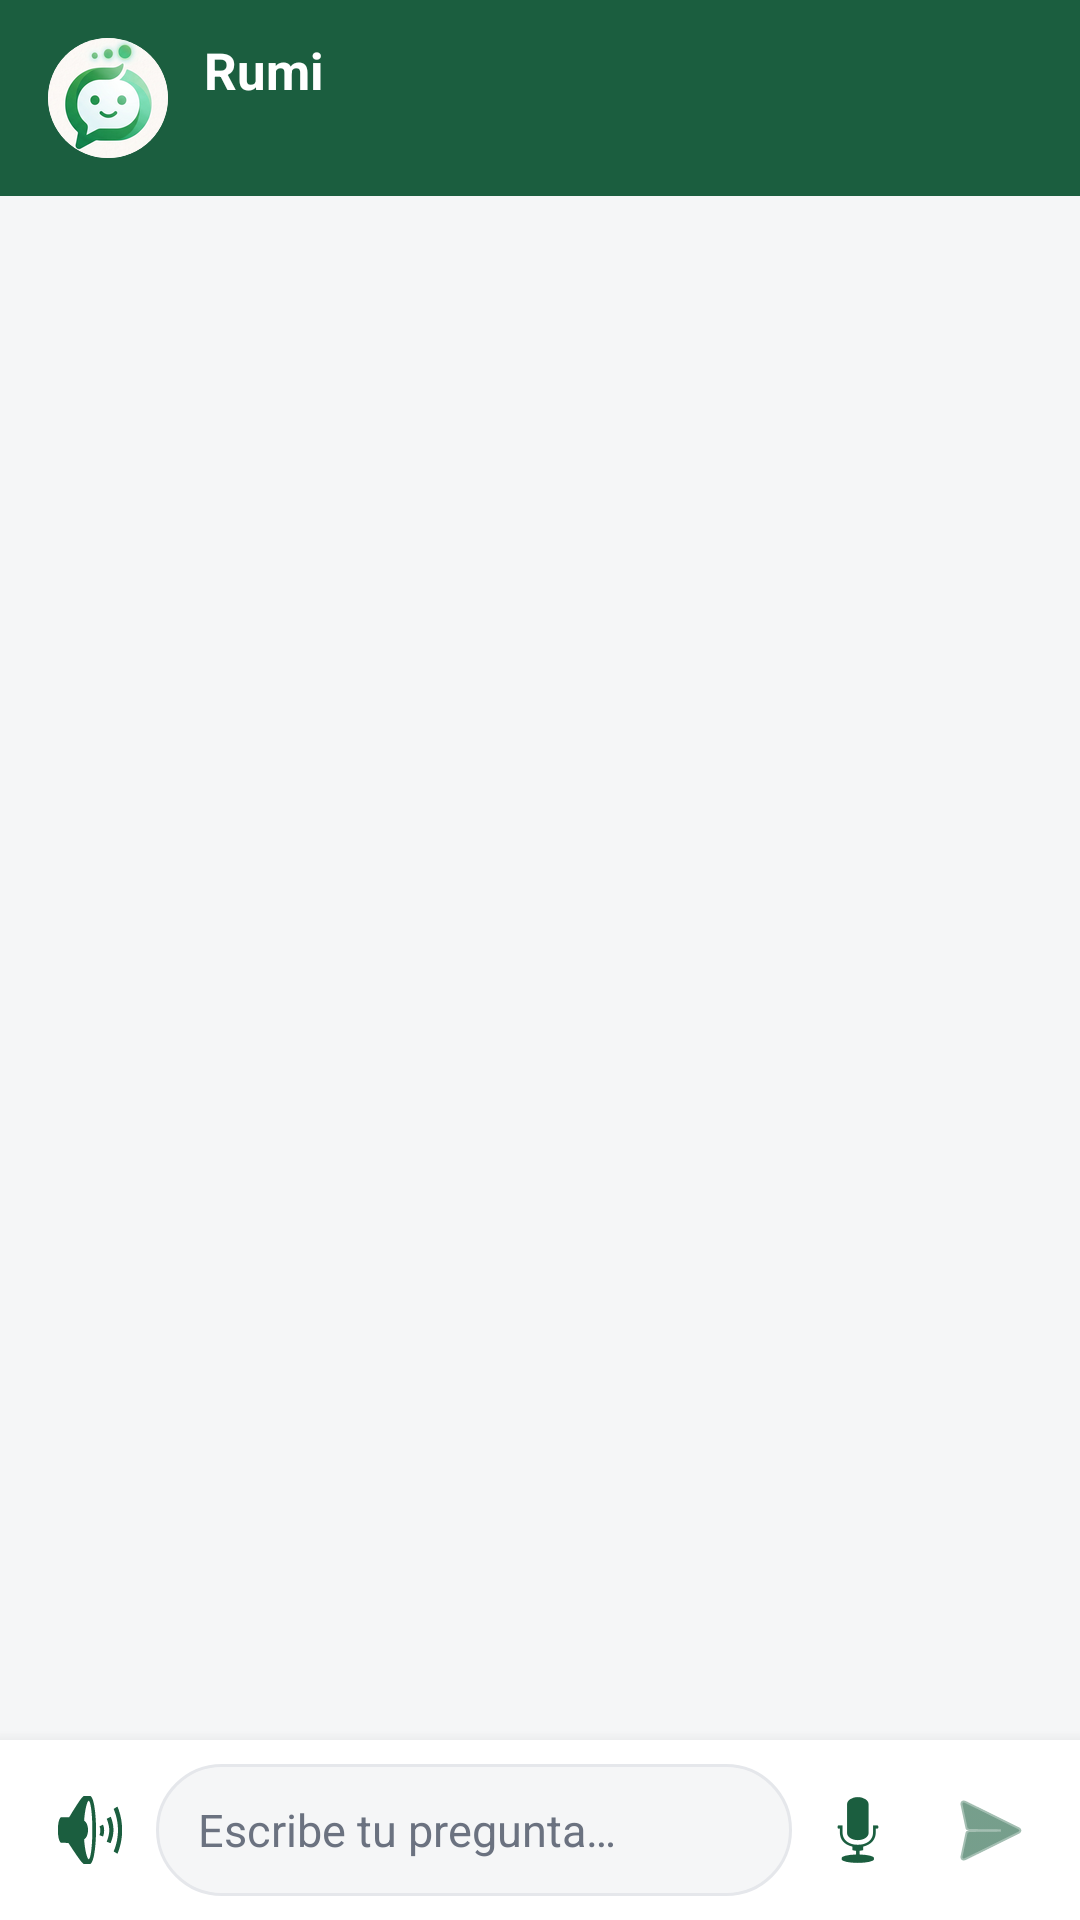

Locate icon controls on the screen. Image size 1080×1920, boxes as box=[x1, y1, x2, y2].
Dictar: box=[837, 1797, 879, 1863]
Enviar: box=[960, 1800, 1022, 1861]
Leer en voz alta: box=[58, 1796, 122, 1864]
